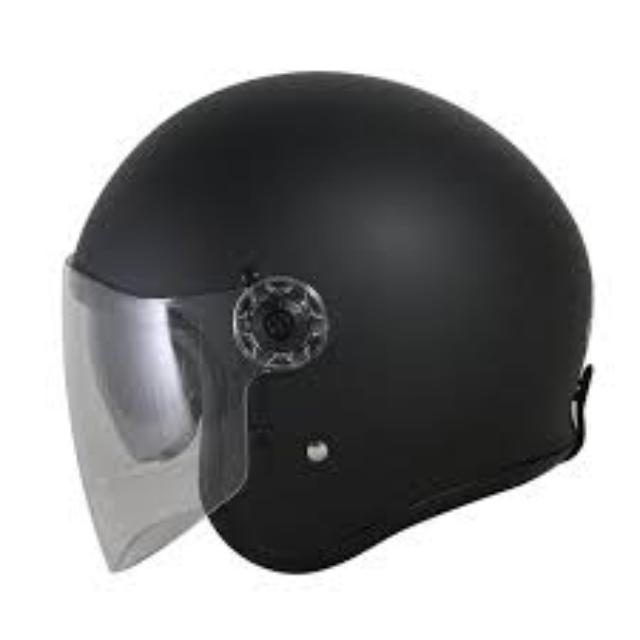motorcycle-helmets: (65, 71, 599, 566)
